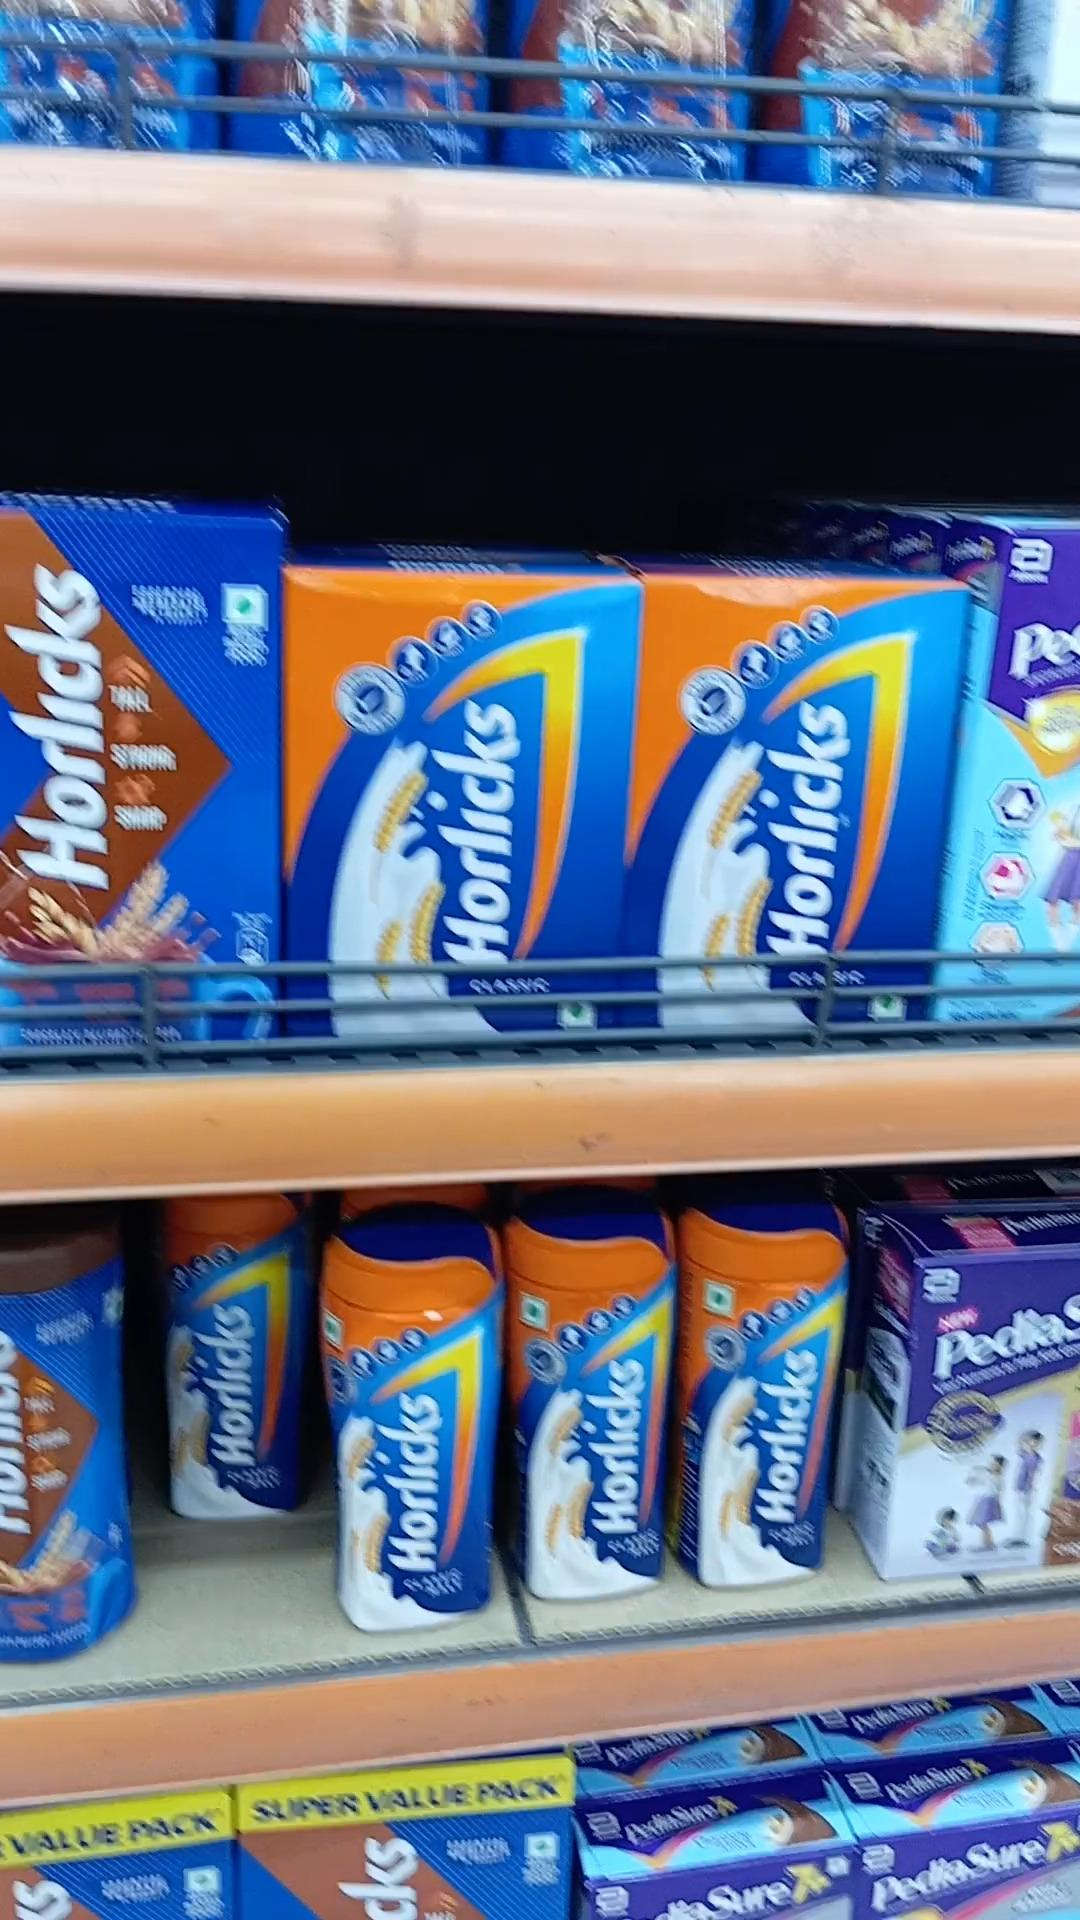HORLICK_CHOCOLATE_500_G_PACK: (1, 502, 276, 1056)
HORLICK_CLASSIC_MALT_500_G_JAR: (320, 1225, 497, 1633), (680, 1205, 832, 1590), (520, 1208, 663, 1593), (162, 1200, 301, 1522)
HORLICK_CLASSIC_MALT_500_G_PACK: (285, 574, 621, 1027), (641, 583, 939, 1025)
